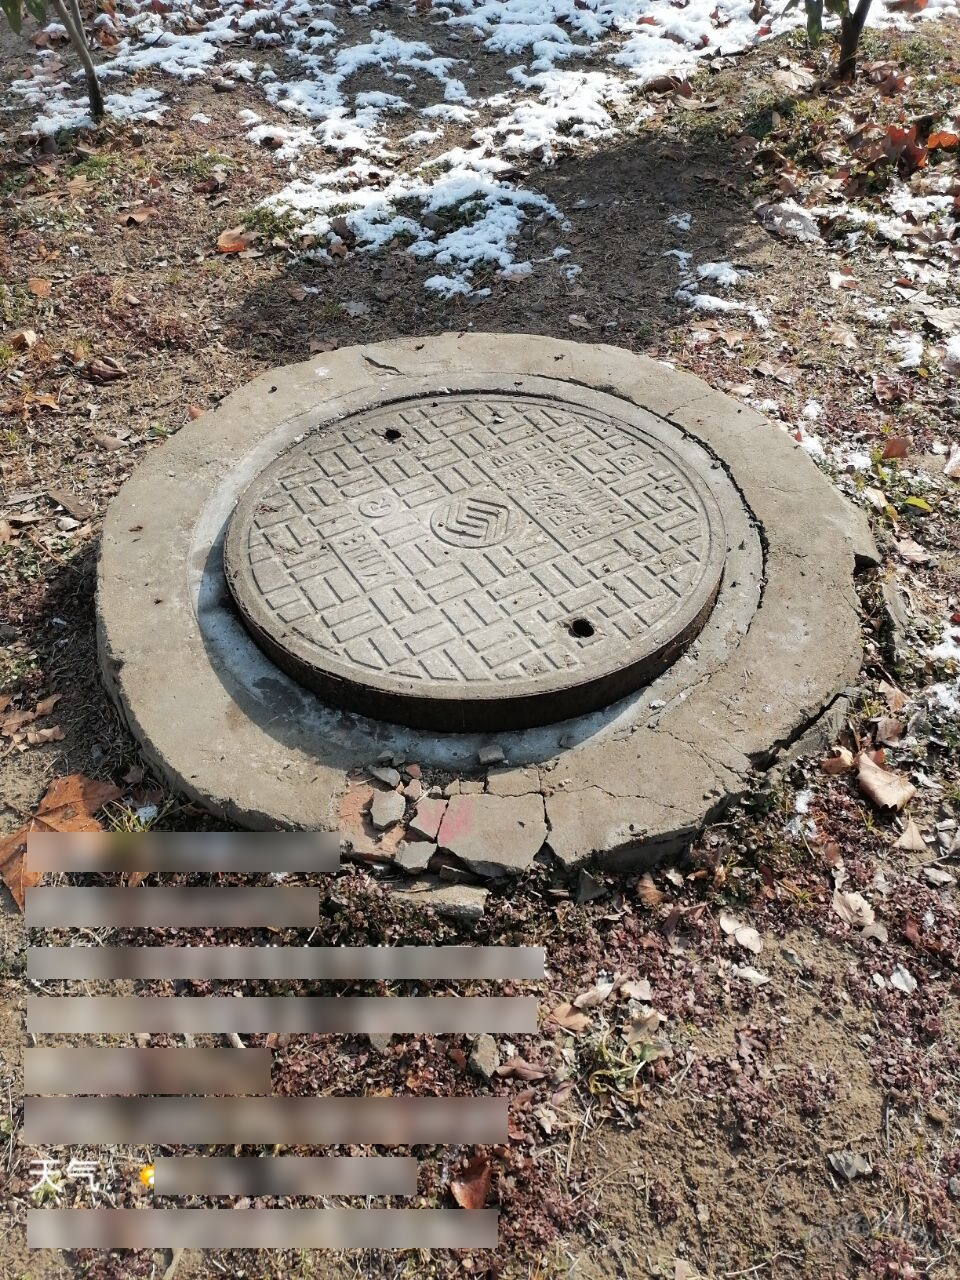uncovered: (185, 371, 771, 769)
